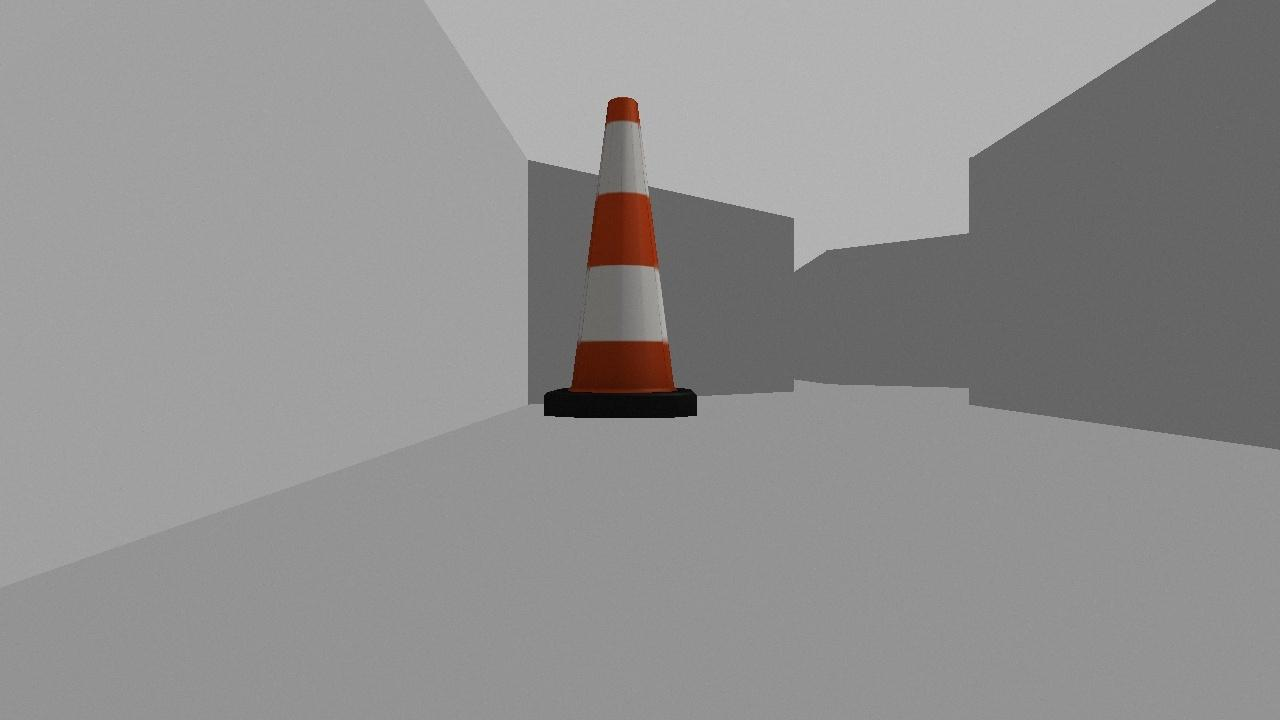cone_barrel: (543, 94, 697, 419)
